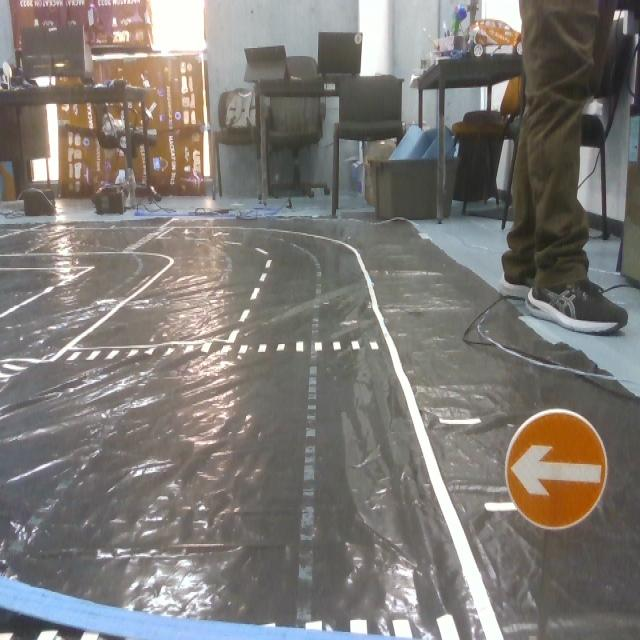forward: (508, 398, 614, 534)
